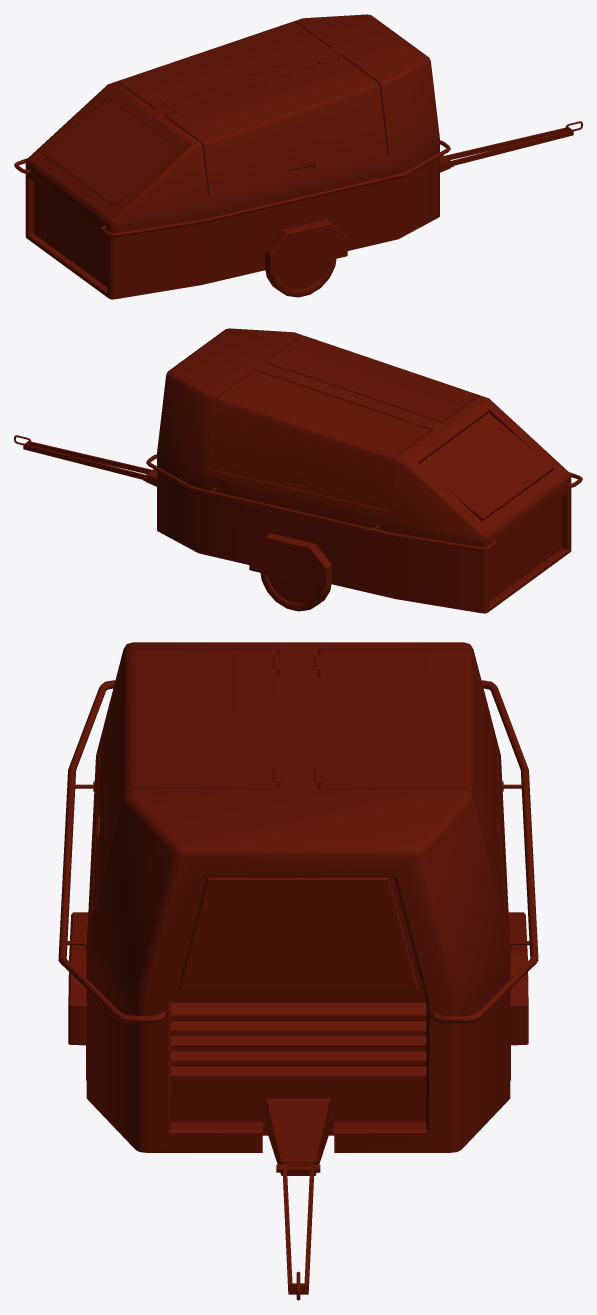
File: compressor1.FBX
The picture shows the model from 3 angles, top to bottom: view 1: azimuth 30°, elevation 25°; view 2: azimuth 150°, elevation 25°; view 3: azimuth 270°, elevation 25°; orthographic projection. The views are drawn at different scales.
Parts seen in each view (by area): view 1: compressor1; view 2: compressor1; view 3: compressor1.
Part boxes in pixels (x1,y1,x2,y2): compressor1: (14,14,582,299); compressor1: (14,328,582,613); compressor1: (58,642,538,1300).
Size of the model in its own units: 334 by 114 by 133.
